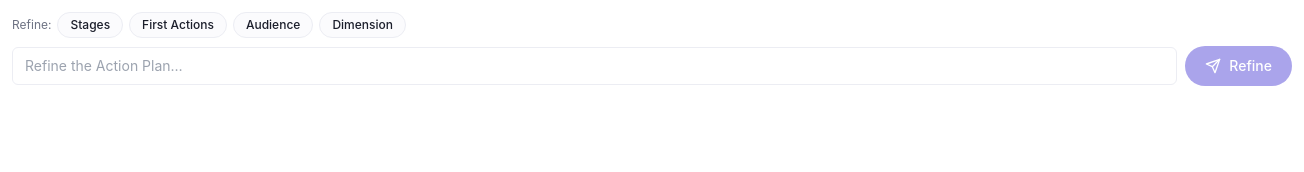
Scenario: ChatRefinementInput — 4-axis chips (G3) › clicking Stages chip pre-fills input with 'Rename stage 1 to '
Click the button "Stages": (90, 25) [57,12,123,38]
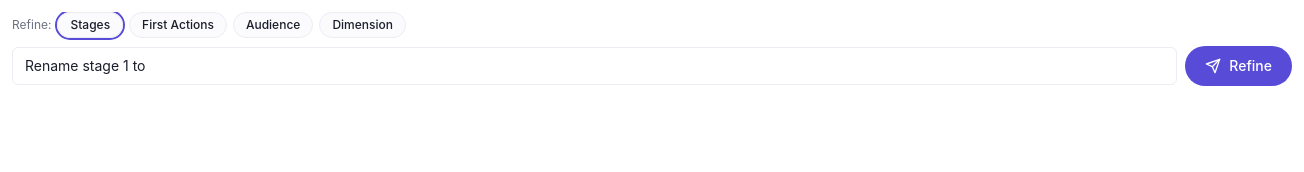
Result: the field named "Refine the Action Plan" holds "Rename stage 1 to " at [12,47,1177,85]
